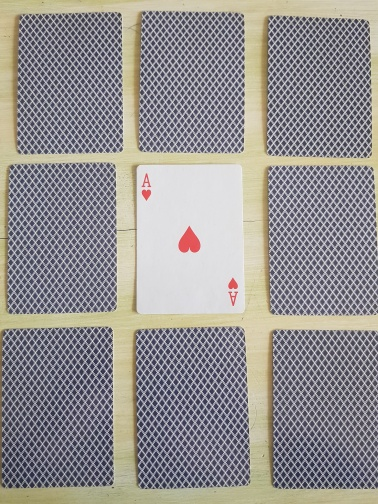ace: (134, 162, 246, 316)
